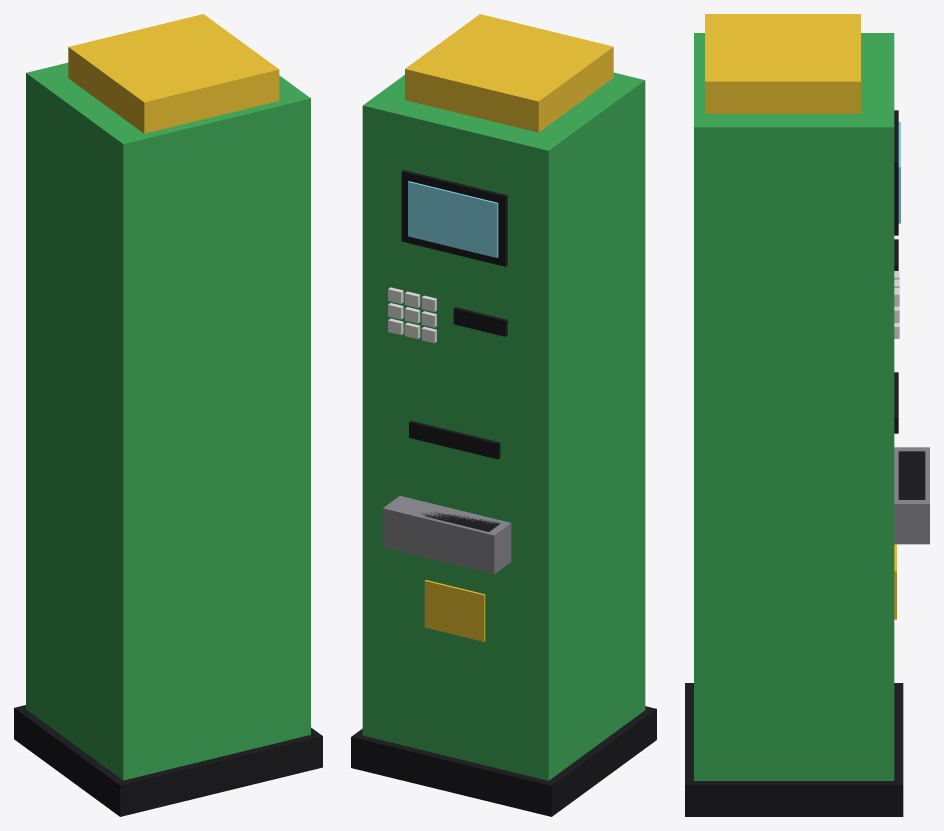
File: Change_Machine.obj
3 renders of one model, left to right at view 1: azimuth 30°, elevation 25°; view 2: azimuth 150°, elevation 25°; view 3: azimuth 270°, elevation 25°, orthographic. The views are drawn at different scales.
Parts seen in each view (by area): view 1: Change_Machine; view 2: Change_Machine; view 3: Change_Machine.
Boxes of the visible parts, left/top/right/bottom form: Change_Machine: left=14, top=14, right=322, bottom=816; Change_Machine: left=351, top=14, right=656, bottom=816; Change_Machine: left=685, top=14, right=929, bottom=816.
Bounding box in the file's own units: 0.54 × 1.78 × 0.55.
